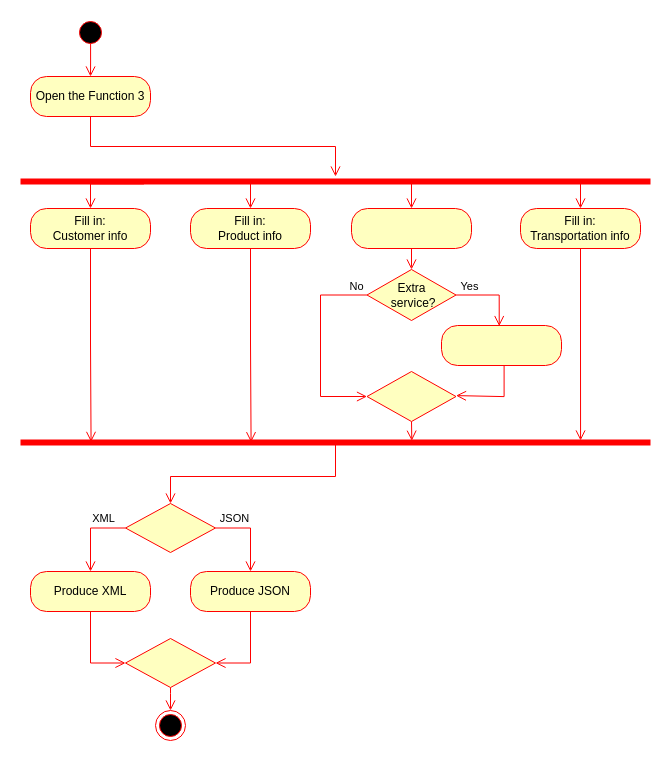
This 670x758 diagram has some shape labels left out. Each missing label, with the box of its shape:
Fill in: Purchase info: (350, 208, 472, 248)
Fill in: Service info: (440, 324, 562, 366)
Format?: (124, 502, 216, 552)
